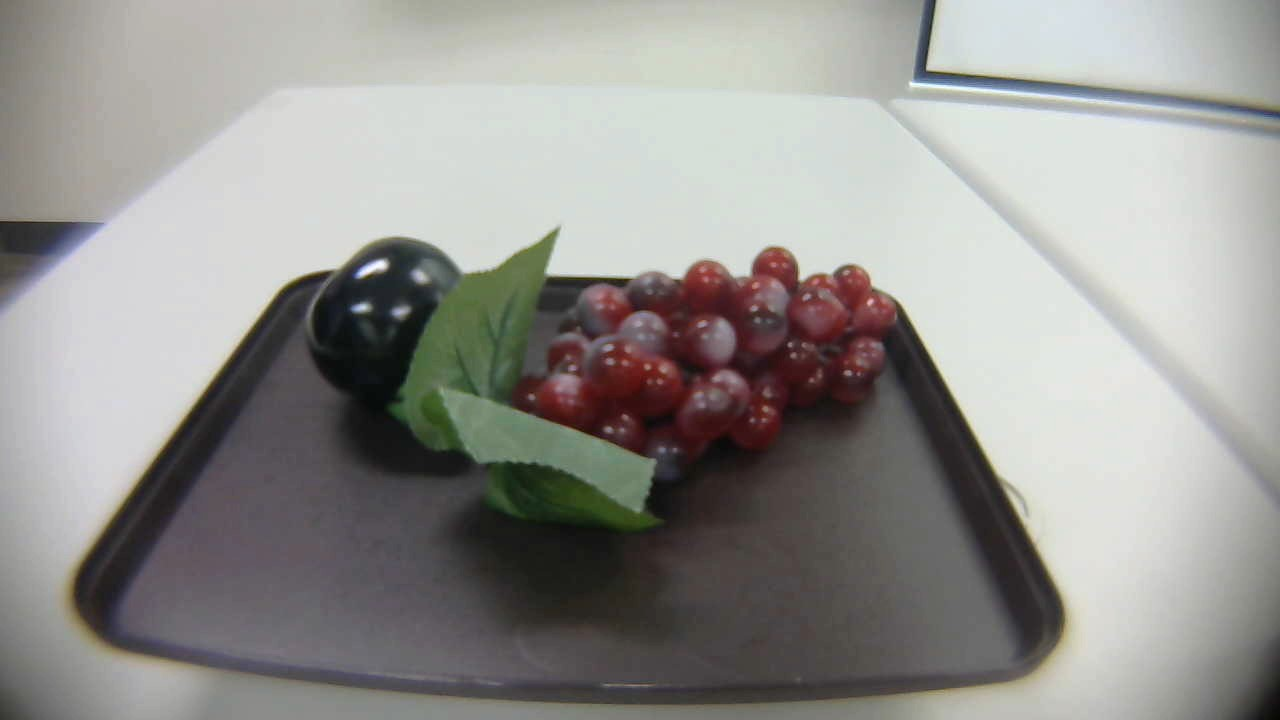grape: (394, 214, 894, 524)
mangosteen: (297, 207, 469, 420)
